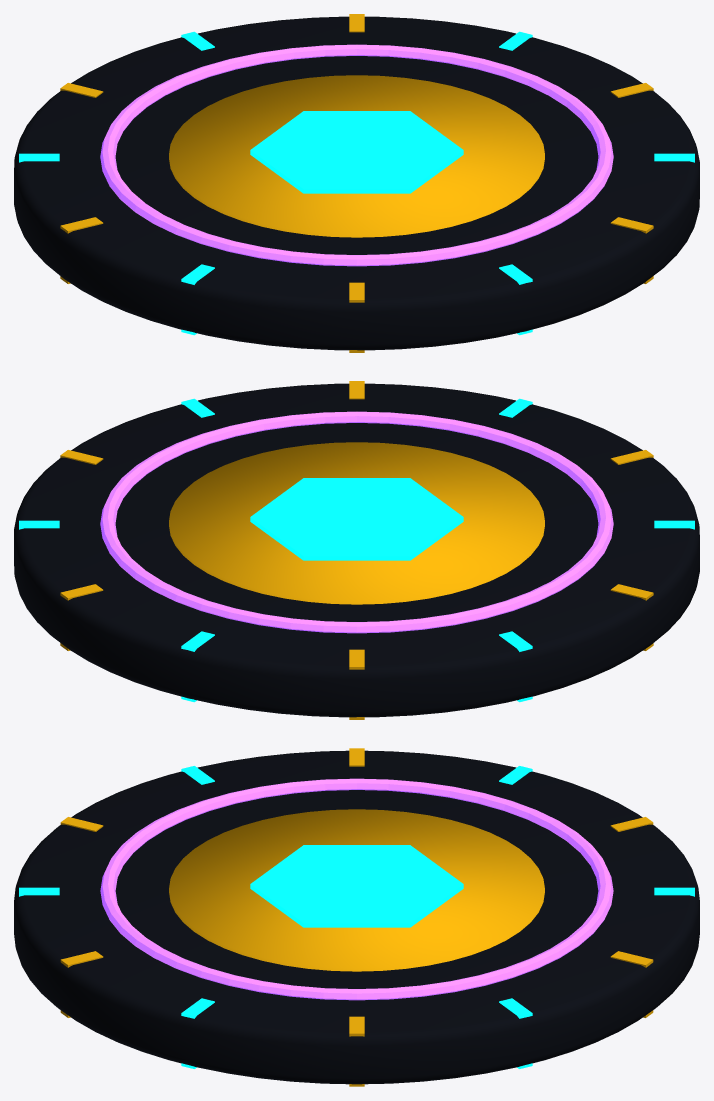
File: chip.glb
The picture shows the model from 3 angles, top to bottom: view 1: azimuth 30°, elevation 25°; view 2: azimuth 150°, elevation 25°; view 3: azimuth 270°, elevation 25°; orthographic projection.
Visible parts, largest first — view 1: CypherChip_Master, Chip_CenterMedallion, Chip_Groove_Top, Chip_Crest_Top; view 2: CypherChip_Master, Chip_CenterMedallion, Chip_Groove_Top, Chip_Crest_Top; view 3: CypherChip_Master, Chip_CenterMedallion, Chip_Groove_Top, Chip_Crest_Top.
Part boxes in pixels (x1,y1,x2,y2): CypherChip_Master: (14,16,699,350); Chip_CenterMedallion: (169,75,544,237); Chip_Groove_Top: (100,44,613,266); Chip_Crest_Top: (250,111,463,193); CypherChip_Master: (14,383,699,717); Chip_CenterMedallion: (169,442,544,604); Chip_Groove_Top: (100,411,613,633); Chip_Crest_Top: (250,478,463,560); CypherChip_Master: (14,750,699,1084); Chip_CenterMedallion: (169,809,544,971); Chip_Groove_Top: (100,778,613,1000); Chip_Crest_Top: (250,845,463,927).
Bounding box in the file's own units: 2.7 × 0.29 × 2.7.
